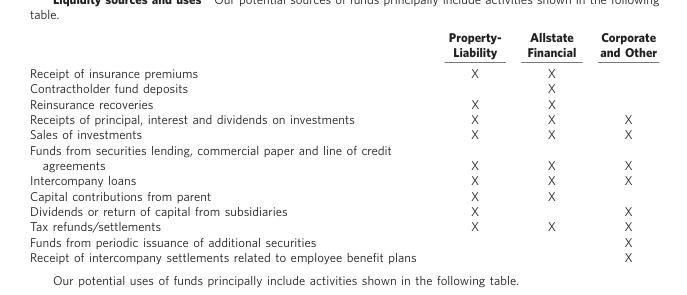table: (29, 29, 656, 263)
table column: (29, 29, 431, 263), (431, 29, 513, 263), (513, 29, 587, 263), (587, 29, 656, 263)
table column header: (29, 29, 656, 62)
table row: (29, 29, 656, 62), (29, 141, 656, 172), (29, 62, 656, 79), (29, 79, 656, 95), (29, 110, 656, 126), (29, 202, 656, 218), (29, 95, 656, 110), (29, 126, 656, 141), (29, 172, 656, 187), (29, 187, 656, 202), (29, 218, 656, 233), (29, 233, 656, 248), (29, 248, 656, 263)
